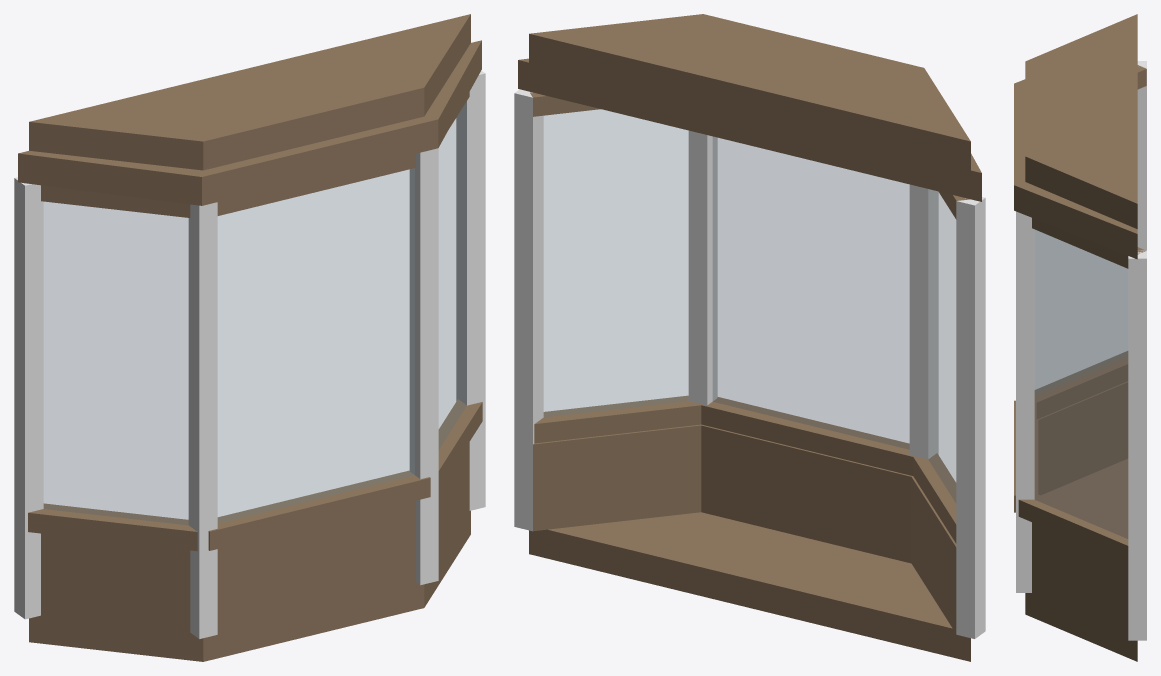
File: win_bay_oriel_2.4x3.0_lod1.glb
3 views of the same model, side by side, from view 1: azimuth 30°, elevation 25°; view 2: azimuth 150°, elevation 25°; view 3: azimuth 270°, elevation 25° (orthographic). The views are drawn at different scales.
Parts seen in each view (by area): view 1: win_bay; view 2: win_bay; view 3: win_bay.
Part boxes in pixels (x1=…): win_bay: x1=14, y1=14, x2=485, y2=661; win_bay: x1=514, y1=14, x2=985, y2=661; win_bay: x1=1014, y1=14, x2=1146, y2=661.
Size of the model in its own units: 2.52 by 2.7 by 0.71.
